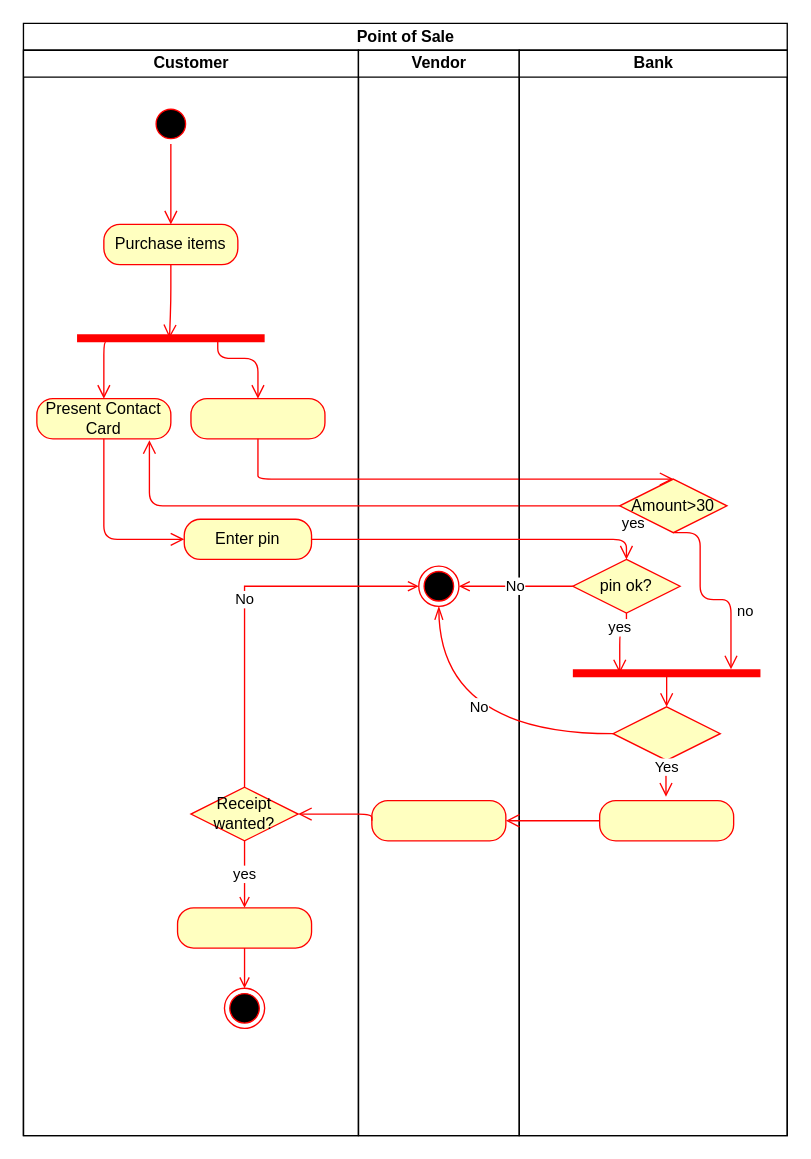
Some shapes in this 811 by 1159 pixel diagram are drawn without their labels. The shapes that lost their labels are listed below. From the top down, each one's centre as x and y in pixels, then its label:
pixel 257 418: Present contactles Card
pixel 666 733: Bal>Amount?
pixel 438 820: Transaction confirmed
pixel 666 820: Transfer funds
pixel 244 927: Collect recept
